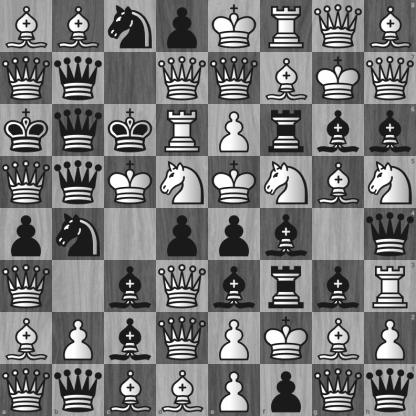B: (156, 364, 209, 416), (104, 364, 156, 416), (364, 0, 416, 52), (1, 1, 52, 52), (1, 313, 52, 364), (53, 1, 104, 52), (261, 53, 312, 104), (313, 157, 364, 208), (313, 313, 364, 364)
K: (105, 157, 156, 208), (209, 1, 260, 52), (209, 157, 260, 208), (261, 313, 312, 364), (313, 53, 364, 104)
N: (364, 156, 416, 209), (157, 157, 208, 208), (261, 157, 312, 208)
P: (364, 312, 416, 364), (209, 364, 260, 416), (53, 313, 104, 364), (209, 105, 260, 156), (209, 313, 260, 364)
Q: (0, 364, 52, 416), (312, 364, 364, 416), (364, 52, 416, 104), (1, 53, 52, 104), (1, 157, 52, 208), (1, 261, 52, 312), (157, 53, 208, 104), (157, 261, 208, 312), (157, 313, 208, 364), (209, 53, 260, 104), (313, 1, 364, 52)
R: (364, 260, 416, 312), (157, 105, 208, 156), (261, 1, 312, 52)
b: (364, 104, 416, 156), (105, 261, 156, 312), (105, 313, 156, 364), (209, 261, 260, 312), (261, 209, 312, 260), (313, 105, 364, 156), (313, 261, 364, 312)
board: (0, 0, 415, 415)
k: (1, 105, 52, 156), (105, 105, 156, 156)
n: (53, 209, 104, 260), (105, 1, 156, 52)
p: (260, 364, 312, 416), (1, 209, 52, 260), (157, 1, 208, 52), (157, 209, 208, 260), (209, 209, 260, 260)
q: (52, 364, 104, 416), (364, 364, 416, 416), (364, 209, 416, 260), (53, 53, 104, 104), (53, 105, 104, 156), (53, 157, 104, 208)
r: (261, 105, 312, 156), (261, 261, 312, 312)
